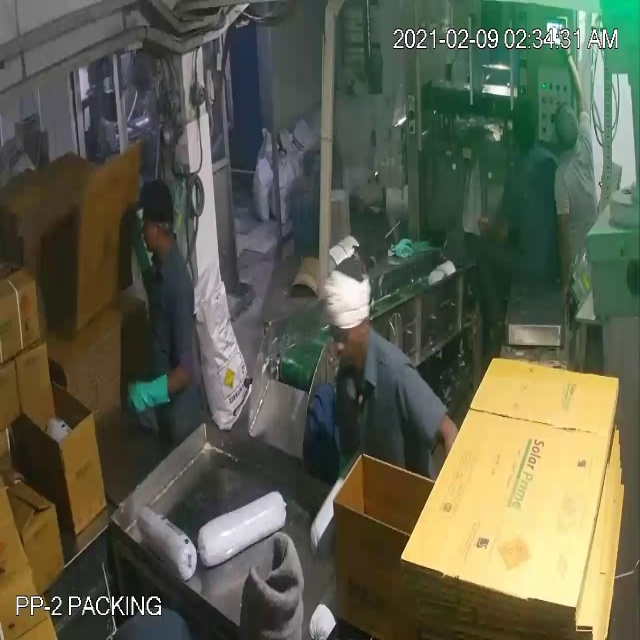Guantes: (118, 364, 175, 426)
Sin_guantes: (471, 195, 519, 248)
